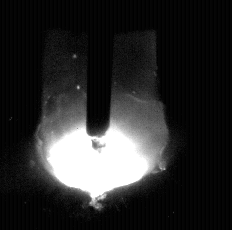arame: (86, 0, 111, 136)
poca: (35, 0, 169, 230)
